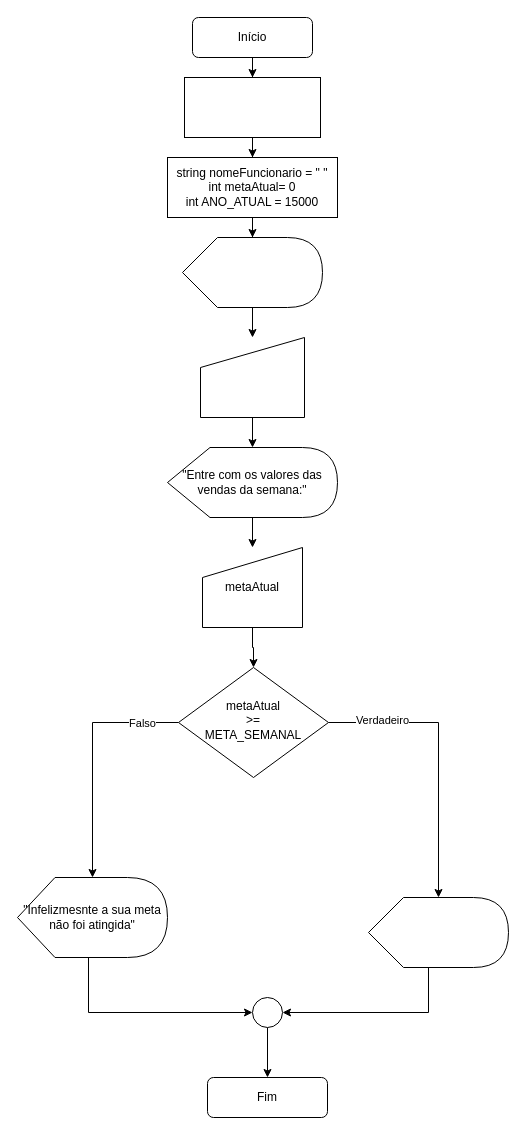
The diagram is 526 pixels wide and 1135 high, and some of its shapes have lost their labels. Each missing label, with the centre of its shape:
"Qual o nome do funcionário:": (x=252, y=272)
"Você bateu a meta, parabéns": (x=438, y=932)
nomeFuncionario: (x=252, y=377)
sting nomeFuncionario int metaAtual float META_SEMANA: (x=252, y=107)
